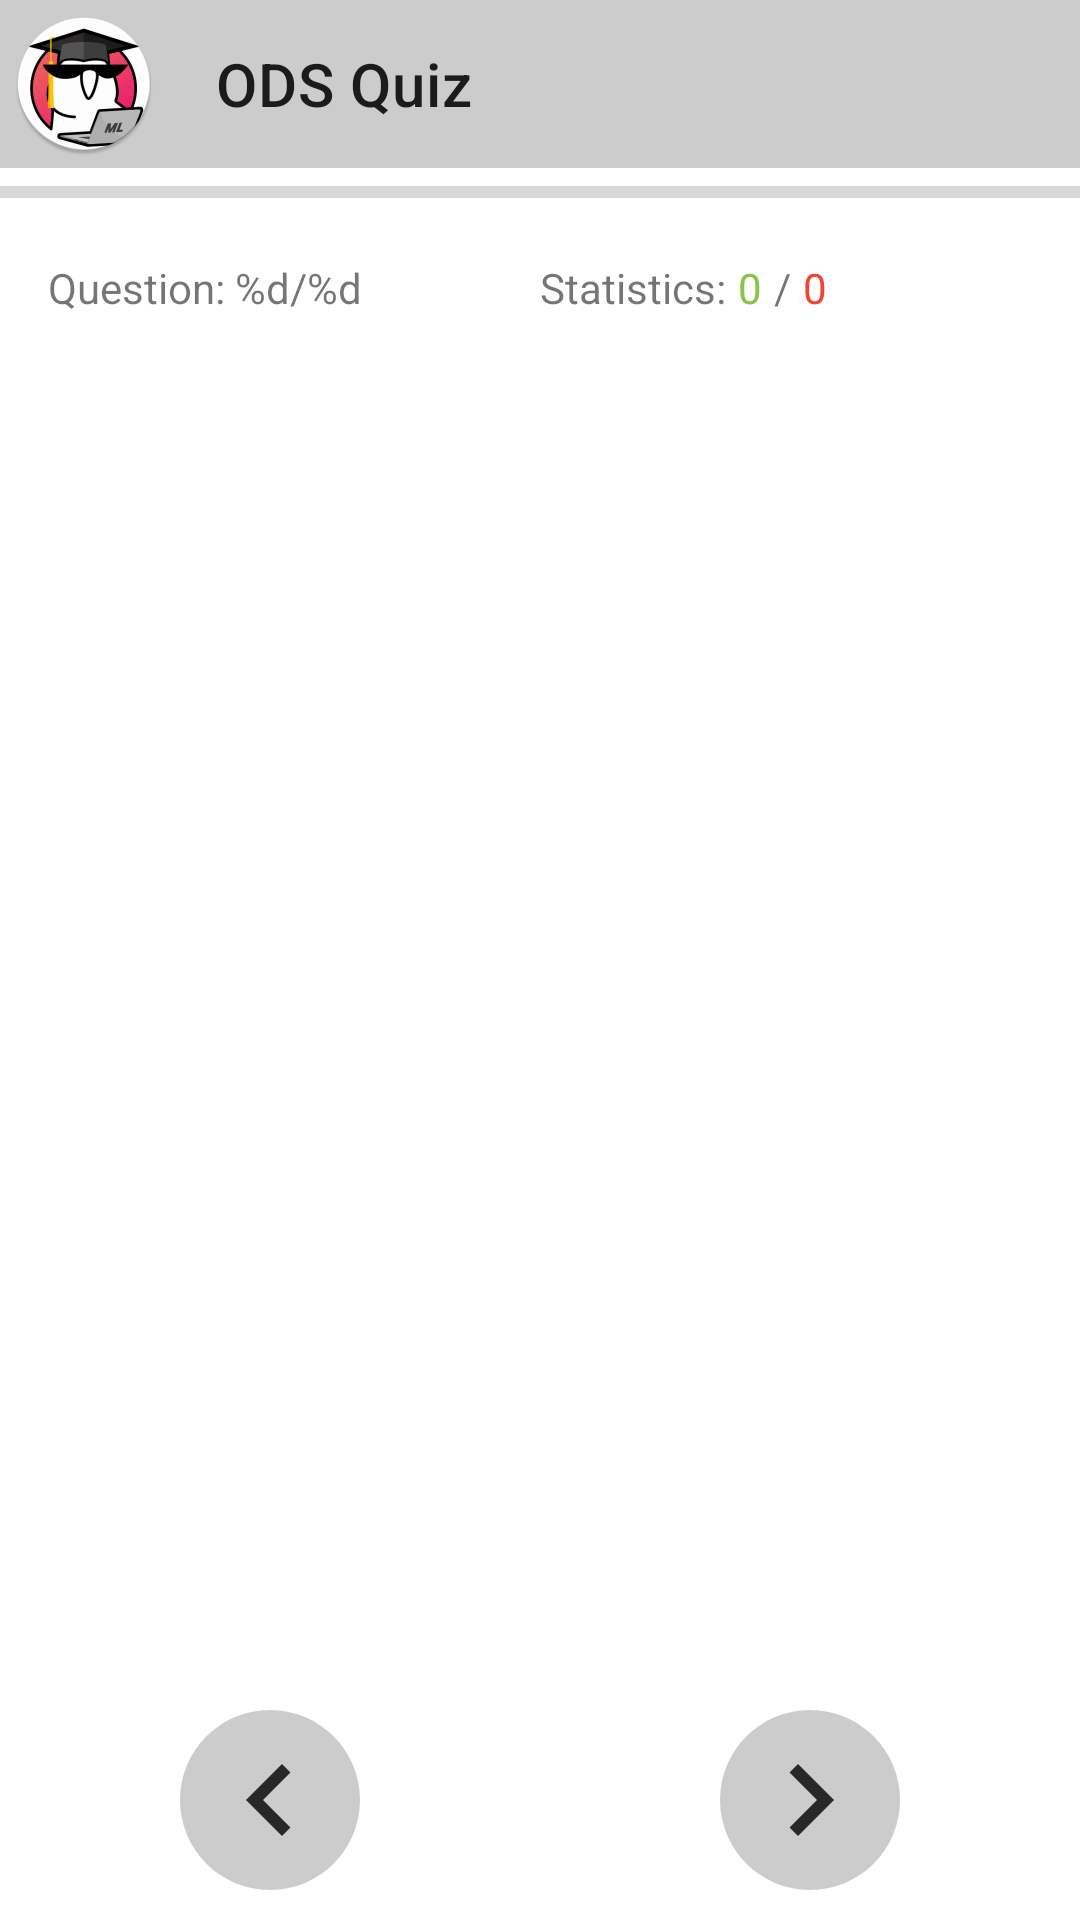

Named icons in this screenshot (1080 x 1920) and their bounding boxes, [left=x1, top=y1, right=x2, bottom=y2]:
back: [left=180, top=1710, right=360, bottom=1890]
forward: [left=720, top=1710, right=900, bottom=1890]
